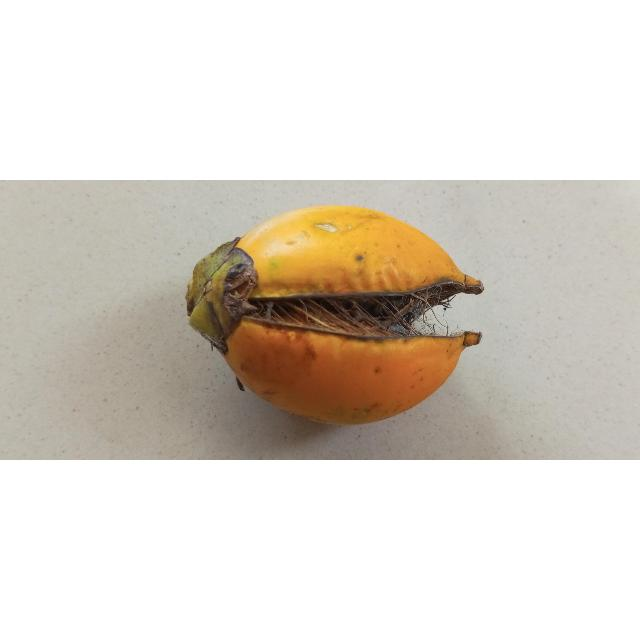damaged: (186, 206, 484, 426)
